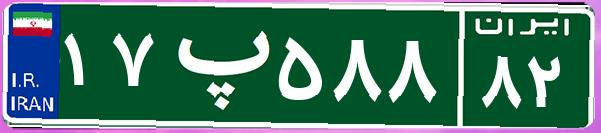1: (57, 26, 110, 107)
2: (525, 38, 570, 115)
5: (273, 28, 330, 110)
7: (110, 28, 158, 105)
8: (385, 28, 445, 110), (330, 28, 385, 110), (475, 38, 525, 113)
پ: (158, 15, 273, 115)
